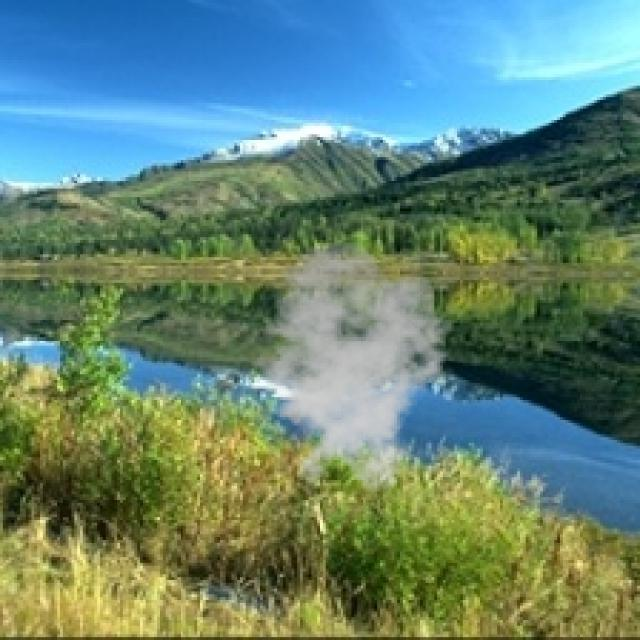Smoke: (240, 240, 460, 494)
